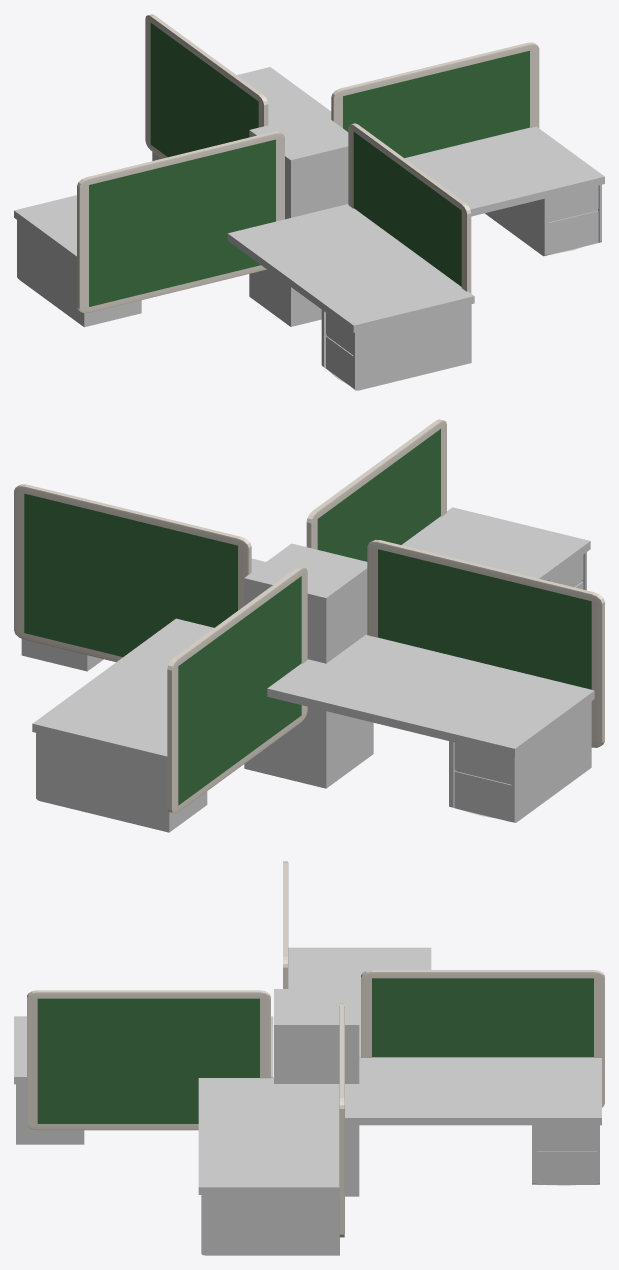
File: desks.glb
3 views of the same model, one above another, from view 1: azimuth 30°, elevation 25°; view 2: azimuth 150°, elevation 25°; view 3: azimuth 270°, elevation 25° (orthographic). The views are drawn at different scales.
Visible parts, largest first — view 1: Cube.005_5, Cube.013_13, Cube.001_1, Cube.015_15, Cube.003_3, Cube.014_14, Cube_0, Cube.007_7, Cube.006_6, Cube.016_16, Cube.012_12, Cube.002_2 (+4 smaller); view 2: Cube.001_1, Cube.011_11, Cube.005_5, Cube.003_3, Cube_0, Cube.009_9, Cube.012_12, Cube.010_10, Cube.007_7, Cube.013_13, Cube.006_6, Cube.002_2 (+4 smaller); view 3: Cube.007_7, Cube.003_3, Cube.009_9, Cube.015_15, Cube_0, Cube.016_16, Cube.008_8, Cube.011_11, Cube.010_10, Cube.004_4, Cube.014_14, Cube.002_2 (+2 smaller).
Part boxes in pixels (x1,y1,x2,y2): Cube.005_5: (89, 139, 275, 306); Cube.013_13: (227, 204, 474, 332); Cube.001_1: (343, 50, 529, 158); Cube.015_15: (404, 126, 604, 216); Cube.003_3: (150, 23, 258, 157); Cube.014_14: (321, 304, 471, 390); Cube_0: (249, 112, 348, 326); Cube.007_7: (353, 132, 461, 286); Cube.006_6: (77, 131, 284, 313); Cube.016_16: (485, 184, 601, 256); Cube.012_12: (17, 220, 141, 327); Cube.002_2: (331, 42, 539, 127); Cube.001_1: (24, 493, 237, 656); Cube.011_11: (267, 634, 594, 756); Cube.005_5: (378, 549, 591, 689); Cube.003_3: (178, 576, 301, 805); Cube_0: (244, 543, 373, 788); Cube.009_9: (32, 618, 213, 764); Cube.012_12: (449, 701, 591, 822); Cube.010_10: (36, 733, 207, 832); Cube.007_7: (317, 429, 440, 561); Cube.013_13: (401, 507, 590, 580); Cube.006_6: (367, 539, 604, 747); Cube.002_2: (14, 484, 251, 661); Cube.007_7: (37, 998, 259, 1123); Cube.003_3: (372, 978, 593, 1057); Cube.009_9: (345, 1057, 601, 1125); Cube.015_15: (198, 1077, 339, 1194); Cube_0: (274, 989, 359, 1196); Cube.016_16: (201, 1195, 339, 1255); Cube.008_8: (27, 990, 270, 1130); Cube.011_11: (288, 947, 431, 1057); Cube.010_10: (532, 1125, 599, 1185); Cube.004_4: (361, 970, 604, 1107); Cube.014_14: (16, 1084, 84, 1144); Cube.002_2: (339, 1002, 344, 1237).
Bounding box in the file's own units: 207 × 78.19 × 211.
